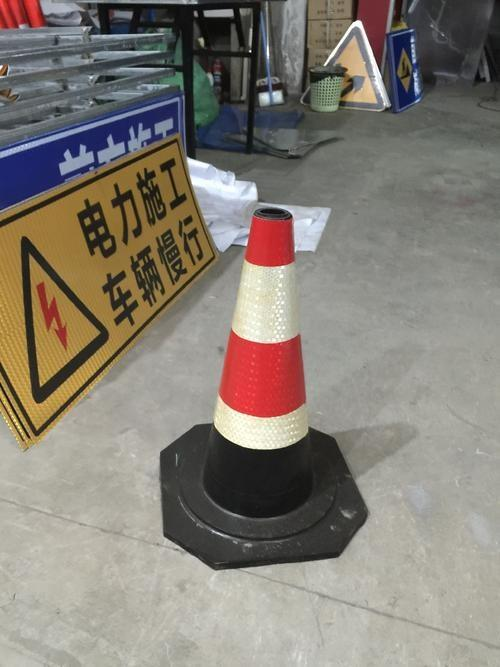cone_barrel: (174, 205, 338, 532)
